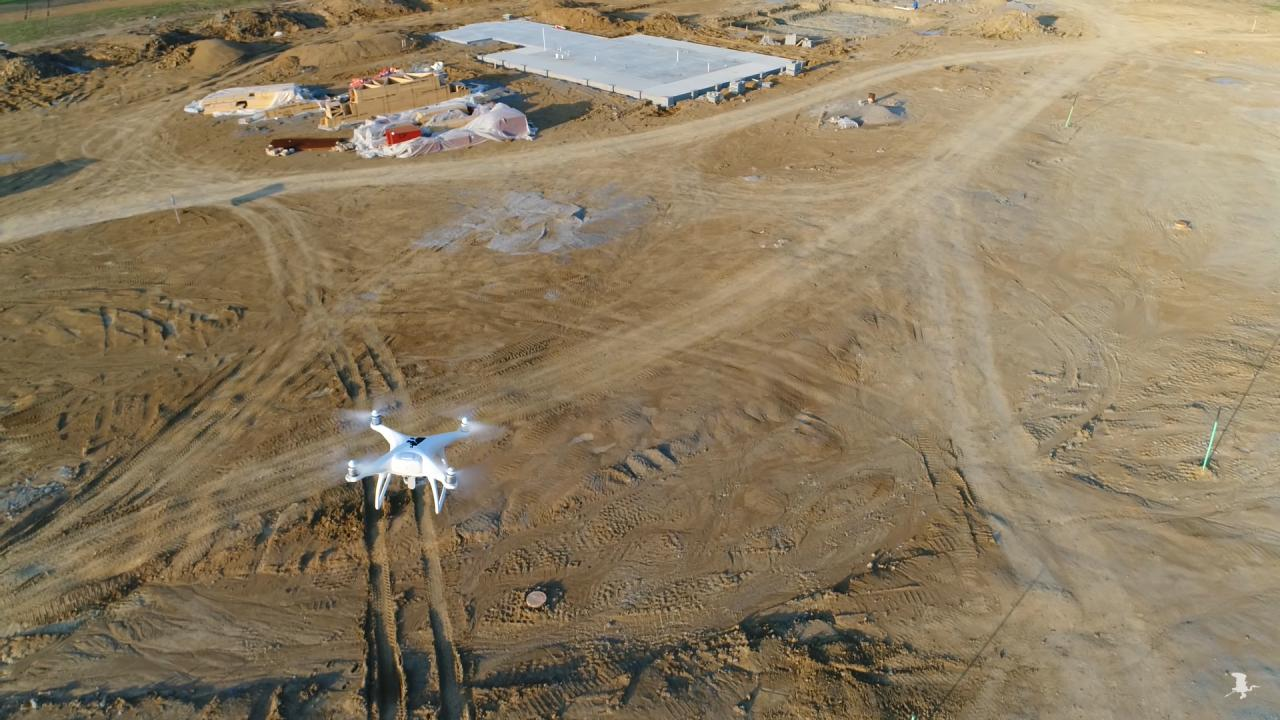Drone: (318, 396, 512, 528)
